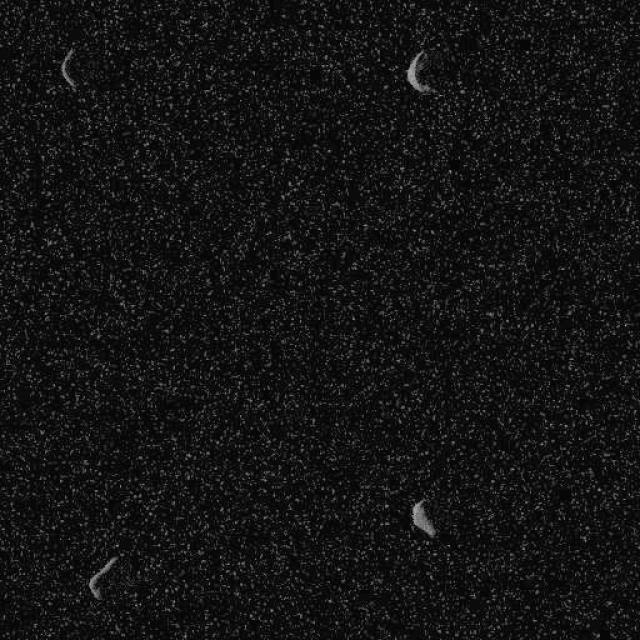D2: (86, 554, 119, 600), (405, 49, 436, 95), (410, 498, 436, 538), (59, 45, 79, 91)
